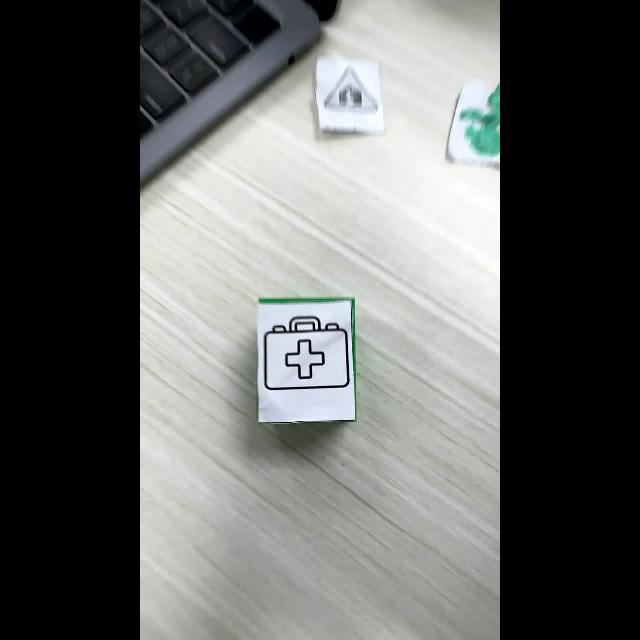Medkit: (263, 316, 349, 391)
